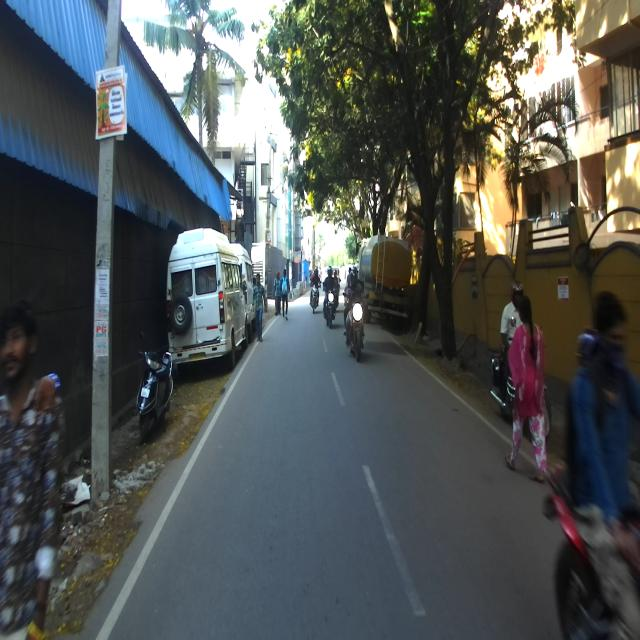bus ahead at: (169, 226, 256, 379)
electric pole ahead at: (86, 0, 124, 518)
motorcycle ahead at: (135, 342, 182, 439), (338, 273, 374, 364)
